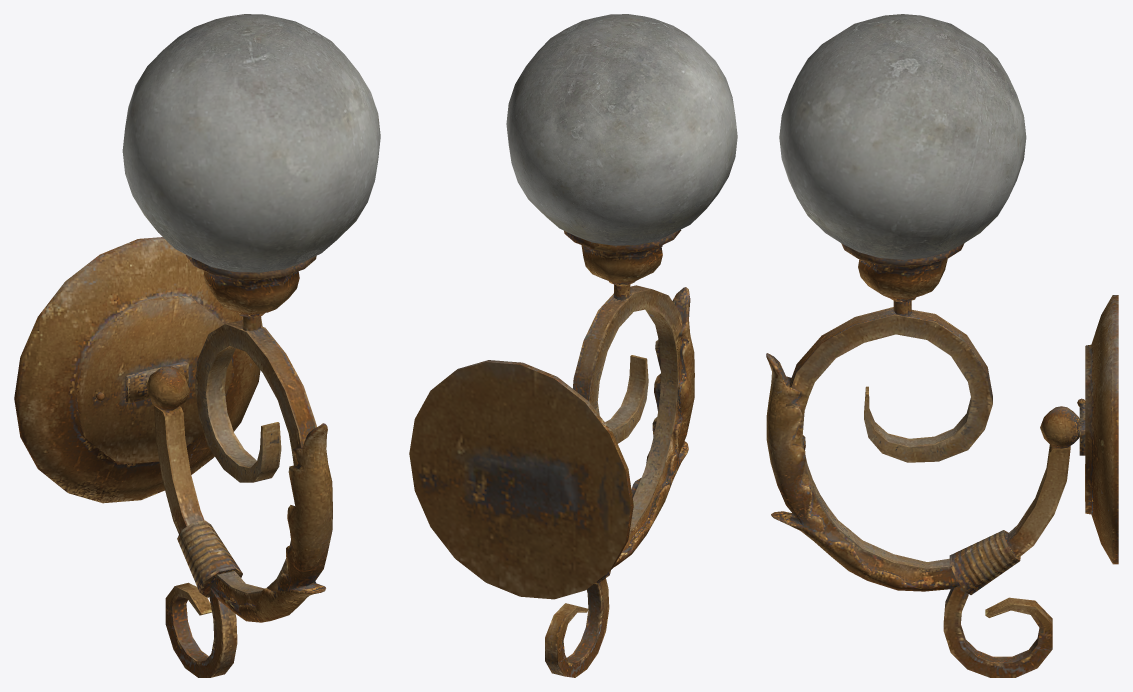
File: sm35_068_BracketLight.fbx
3 renders of one model, left to right at view 1: azimuth 30°, elevation 25°; view 2: azimuth 150°, elevation 25°; view 3: azimuth 270°, elevation 25°, orthographic. The views are drawn at different scales.
Visible parts, largest first — view 1: LOD_1_Group_1_Sub_1__sm35_008_BracketLight01A_F_Mat, LOD_1_Group_0_Sub_1__sm35_008_BracketLight01A_B_Mat; view 2: LOD_1_Group_1_Sub_1__sm35_008_BracketLight01A_F_Mat, LOD_1_Group_0_Sub_1__sm35_008_BracketLight01A_B_Mat; view 3: LOD_1_Group_0_Sub_1__sm35_008_BracketLight01A_B_Mat, LOD_1_Group_1_Sub_1__sm35_008_BracketLight01A_F_Mat.
Part boxes in pixels (bbox=[...]): LOD_1_Group_1_Sub_1__sm35_008_BracketLight01A_F_Mat: bbox=[14, 237, 332, 677]; LOD_1_Group_0_Sub_1__sm35_008_BracketLight01A_B_Mat: bbox=[122, 14, 380, 272]; LOD_1_Group_1_Sub_1__sm35_008_BracketLight01A_F_Mat: bbox=[409, 229, 694, 677]; LOD_1_Group_0_Sub_1__sm35_008_BracketLight01A_B_Mat: bbox=[506, 14, 737, 245]; LOD_1_Group_0_Sub_1__sm35_008_BracketLight01A_B_Mat: bbox=[779, 14, 1026, 259]; LOD_1_Group_1_Sub_1__sm35_008_BracketLight01A_F_Mat: bbox=[766, 243, 1118, 677].
Size of the model in its own units: 0.2269 by 0.5994 by 0.295.
